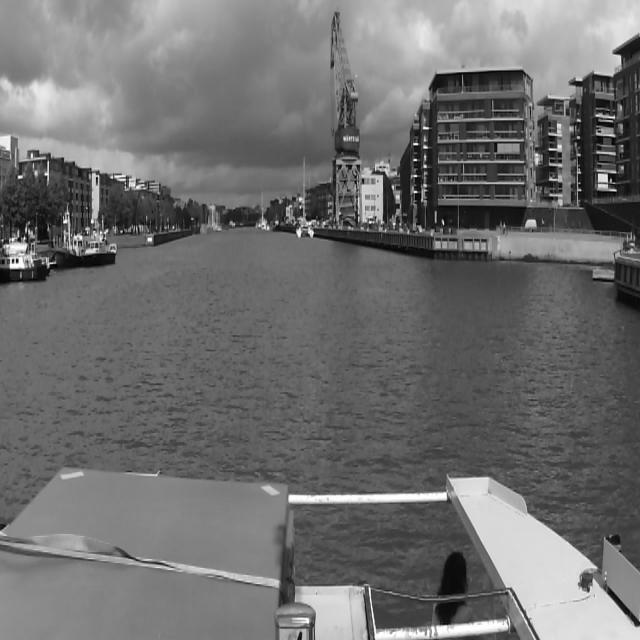ship: (69, 227, 119, 272), (294, 154, 316, 242), (0, 251, 48, 286), (54, 228, 90, 270)
